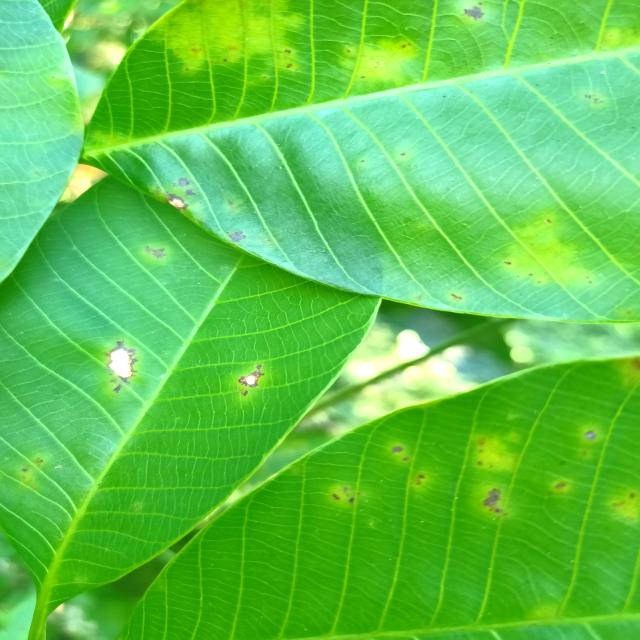Leaf-Blight: (111, 350, 131, 377)
